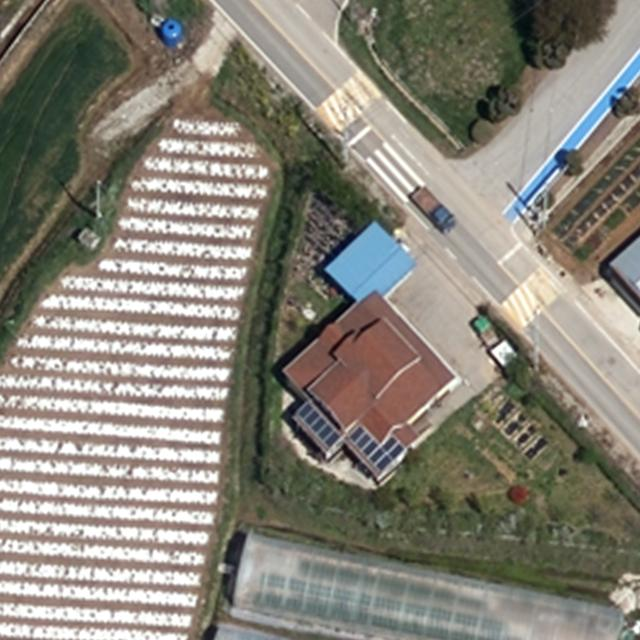panel: (347, 424, 408, 471), (293, 401, 340, 450)
